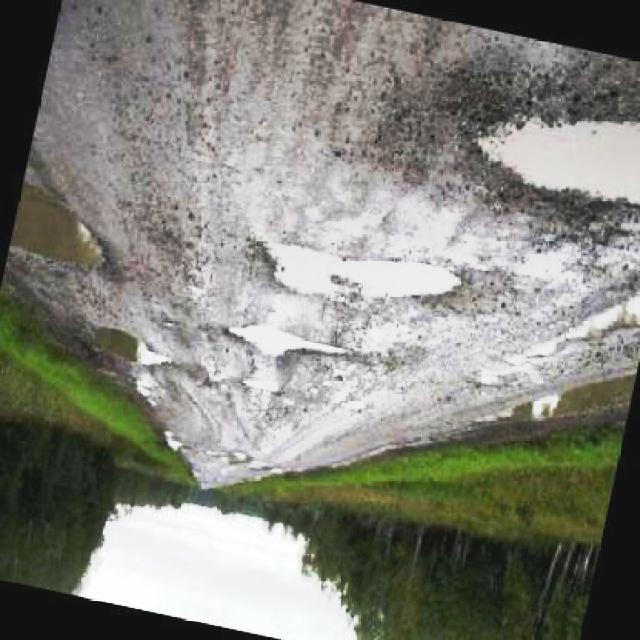pothole: (446, 68, 640, 249), (467, 282, 640, 395), (249, 234, 466, 308), (0, 180, 120, 283), (223, 314, 354, 397), (78, 323, 188, 372)
